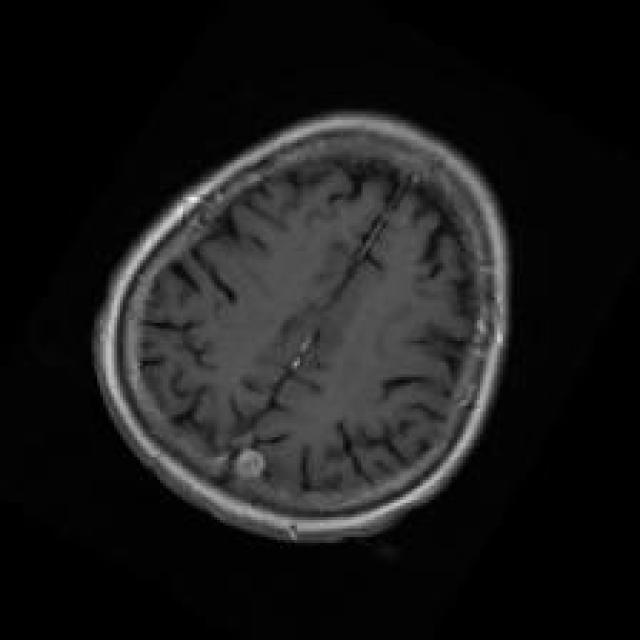meningioma_tumor: (219, 426, 282, 490)
